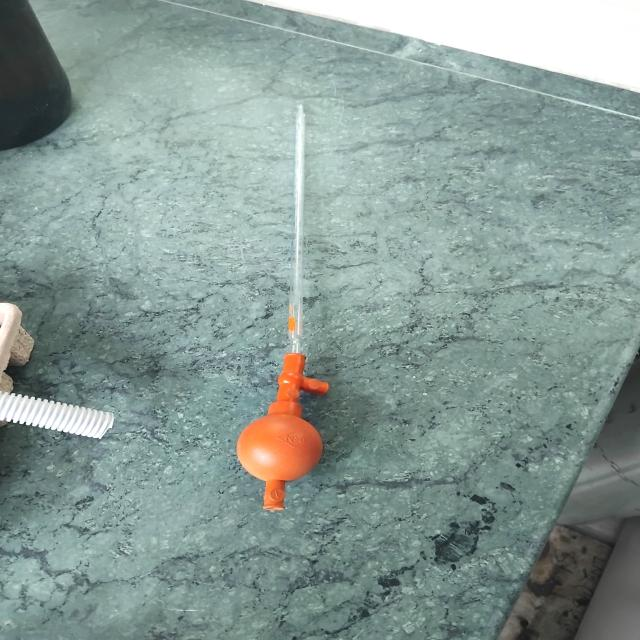Volumetric_Pipet: (227, 90, 360, 536)
